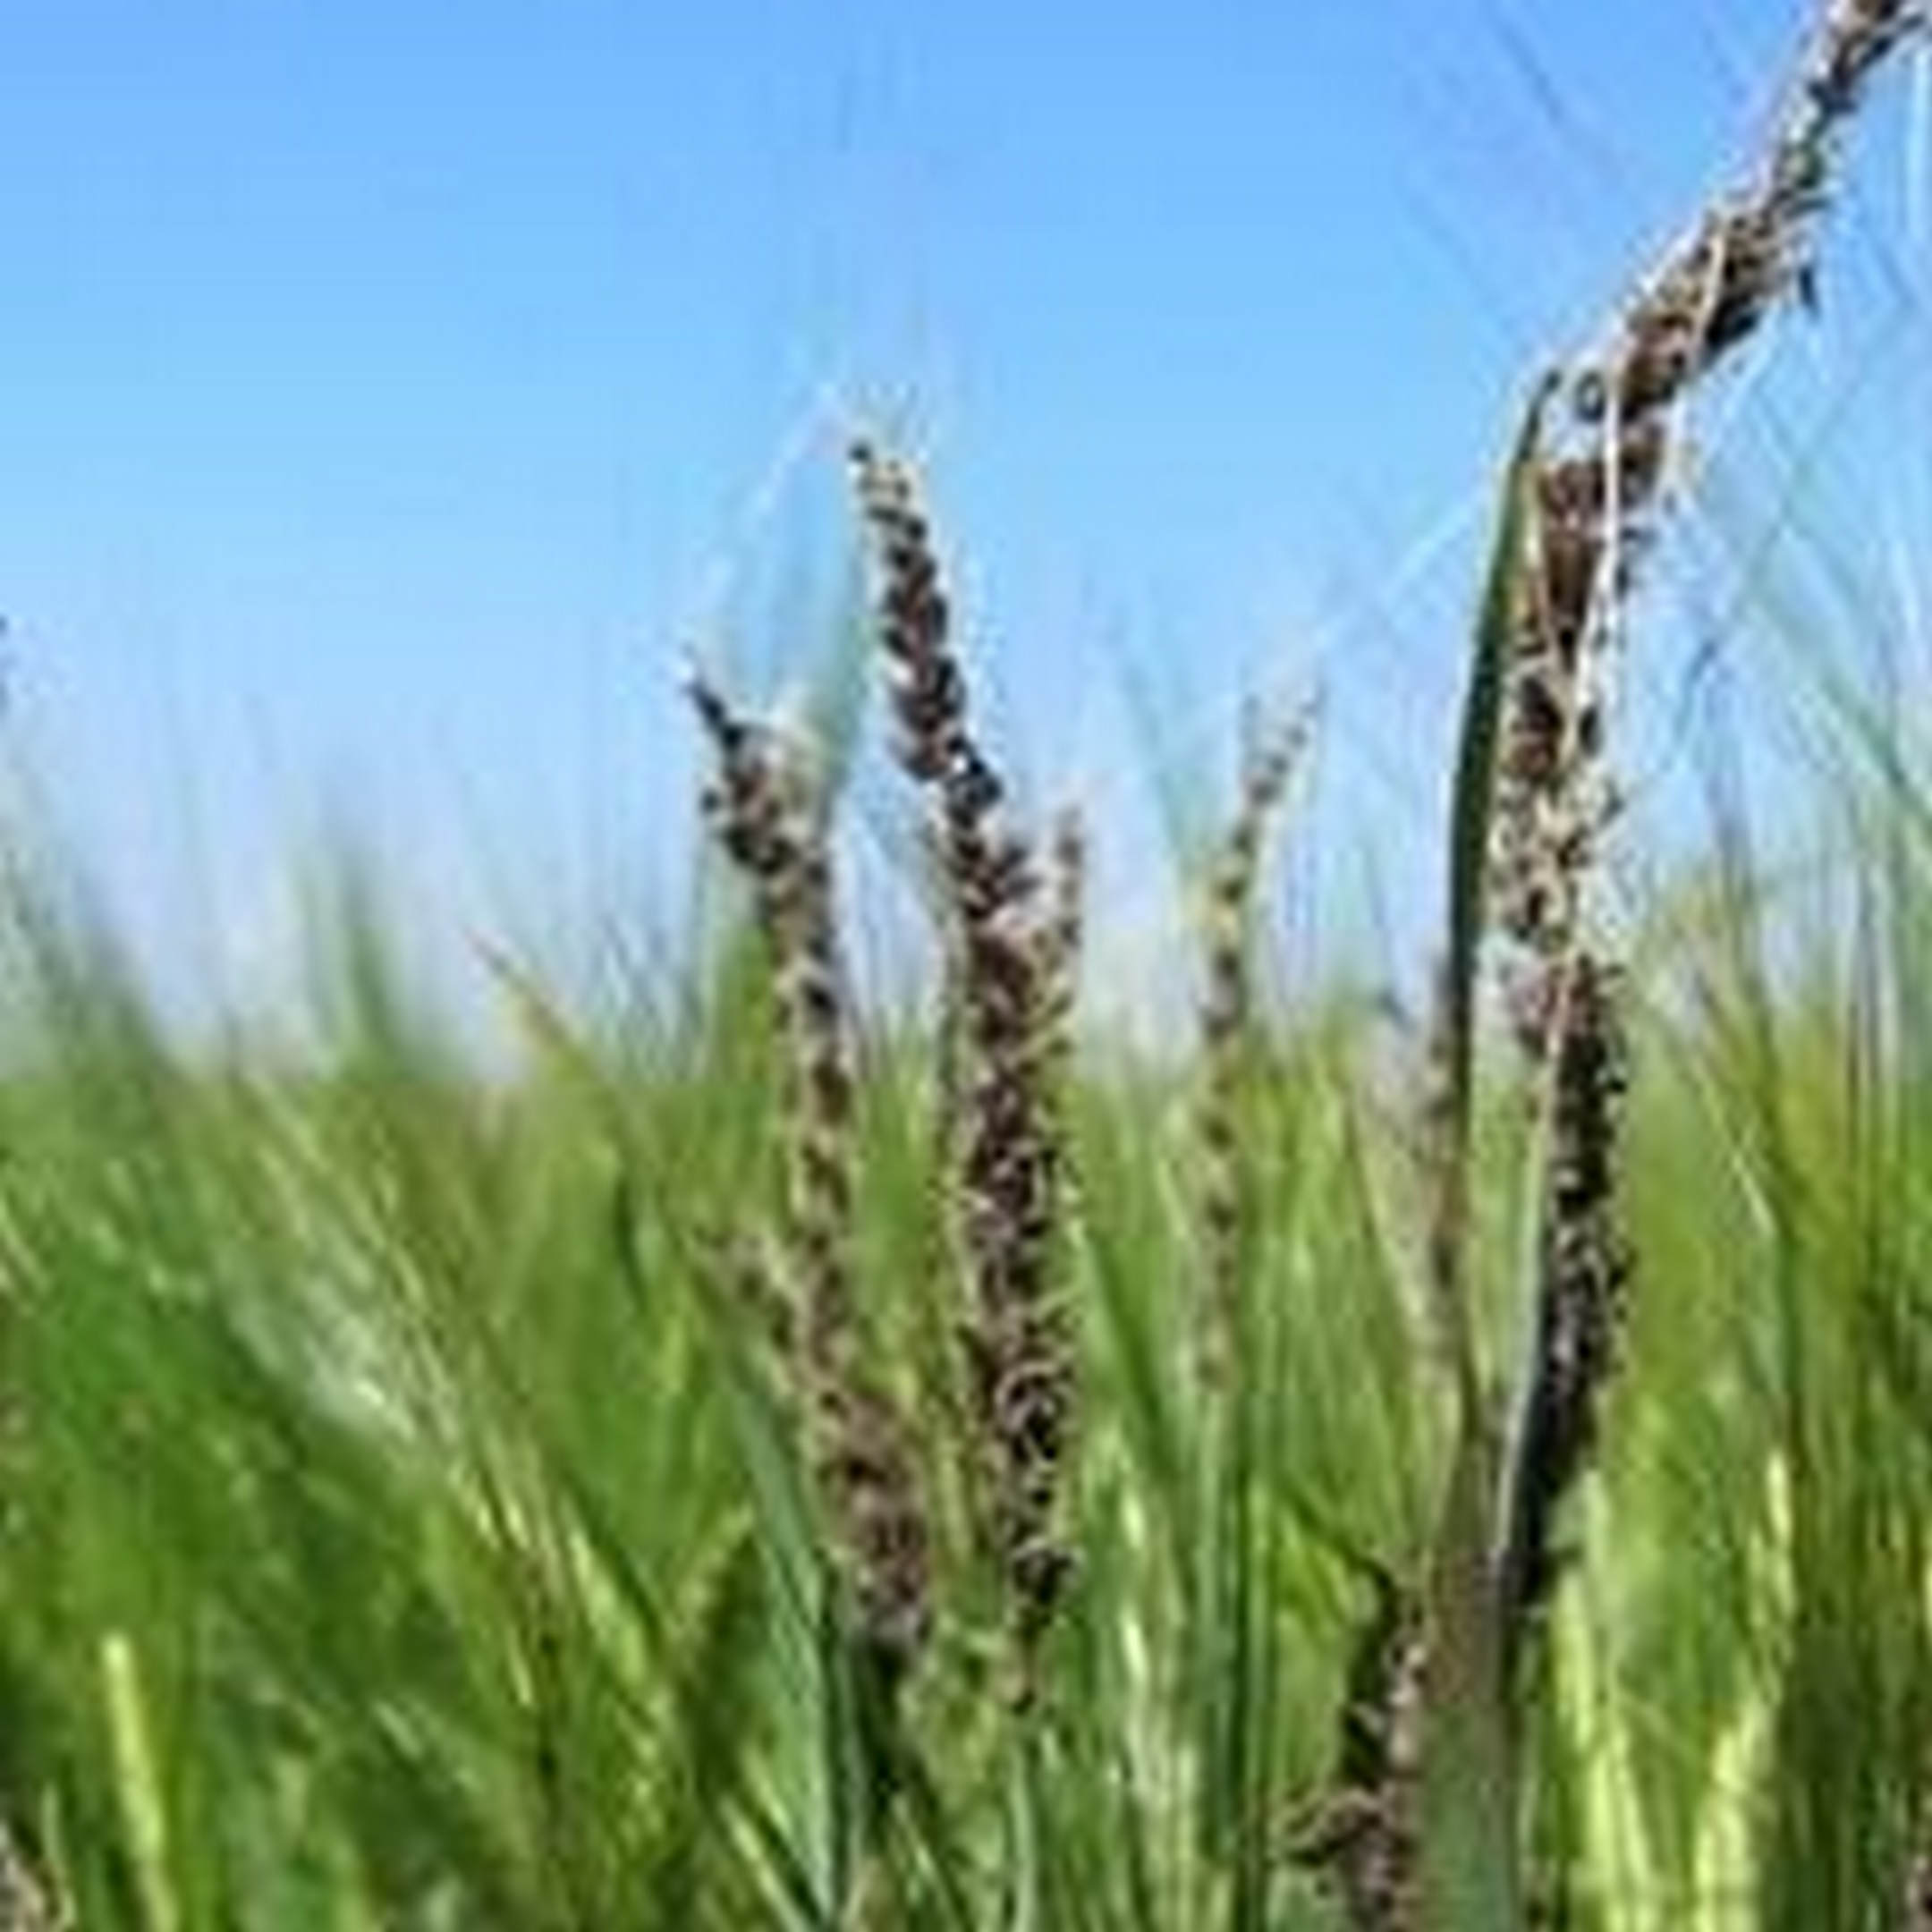Wheat Loose Smut: (709, 377, 1207, 1587)
